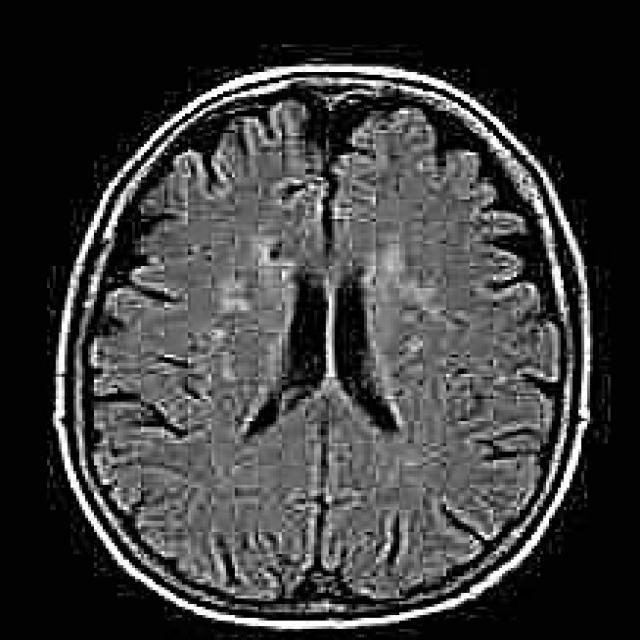notumor: (53, 69, 587, 629)
